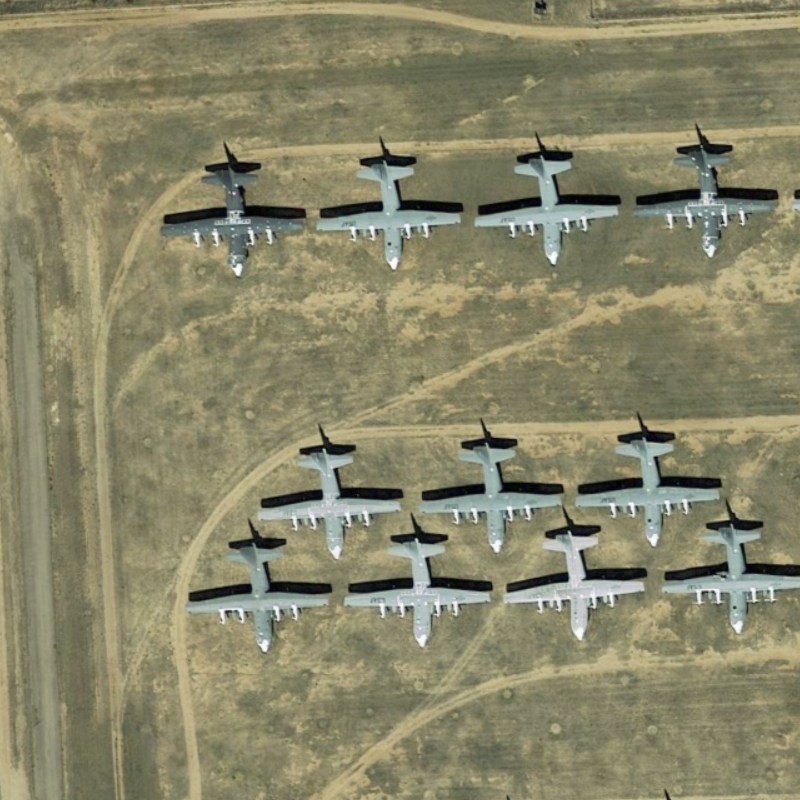A2: (315, 146, 464, 278), (155, 160, 310, 285), (472, 144, 625, 269), (182, 534, 335, 658), (569, 425, 723, 548), (636, 138, 785, 265), (256, 441, 407, 562), (343, 537, 499, 653), (415, 433, 562, 555), (507, 524, 649, 644), (658, 521, 800, 640)
